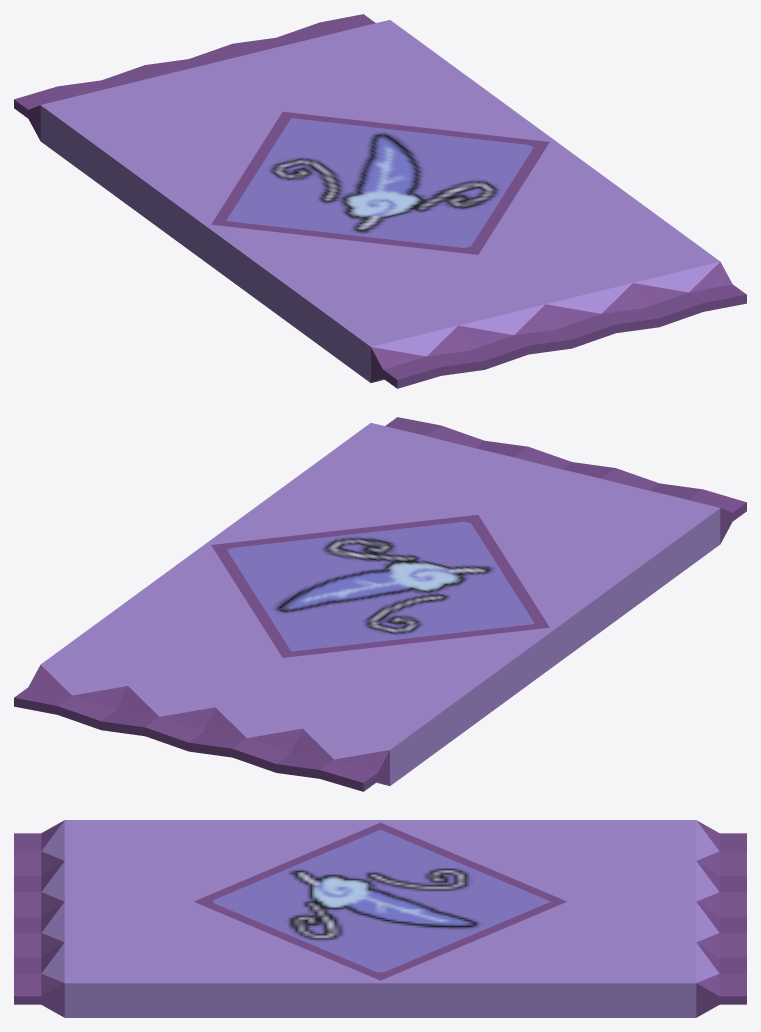
The model's file is CardPack_Wind.fbx.
3 renders of one model, top to bottom at view 1: azimuth 30°, elevation 25°; view 2: azimuth 150°, elevation 25°; view 3: azimuth 270°, elevation 25°, orthographic. The views are drawn at different scales.
Parts seen in each view (by area): view 1: Wind; view 2: Wind; view 3: Wind.
Boxes of the visible parts, box(x1,y1,x2,y2) form: Wind: box(14, 14, 746, 388); Wind: box(14, 417, 746, 791); Wind: box(14, 820, 746, 1017).
Size of the model in its own units: 17.42 by 1.73 by 33.09.
